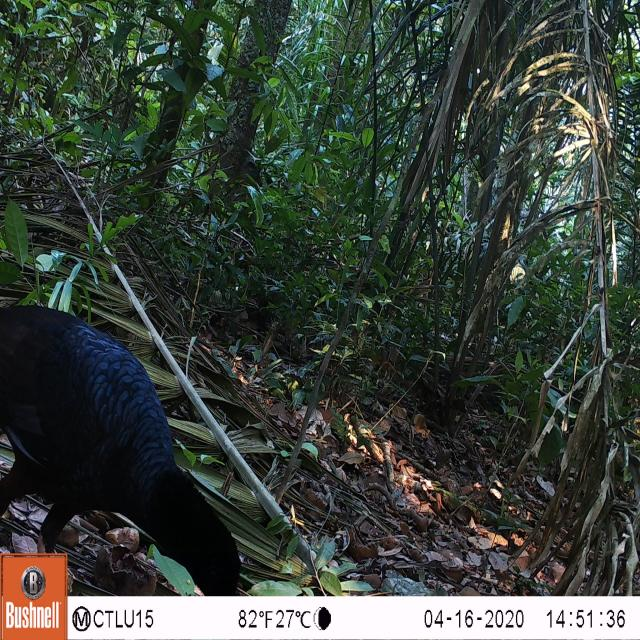Salvins Curassow: (0, 287, 248, 598)
